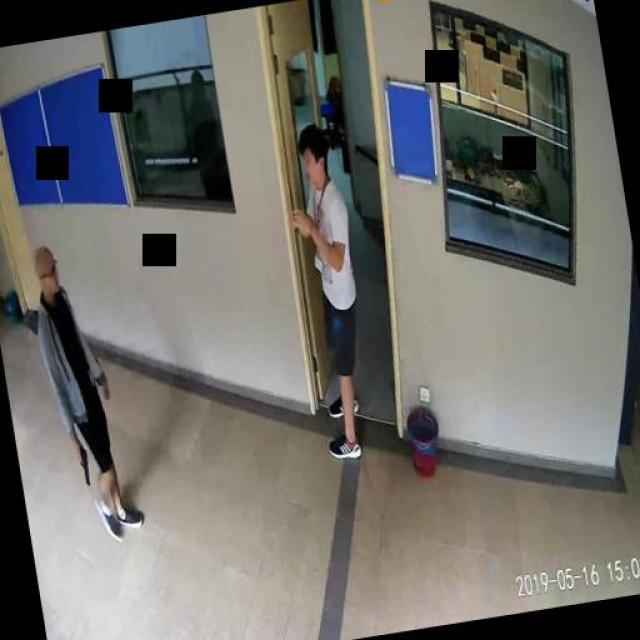gun: (71, 437, 90, 485)
